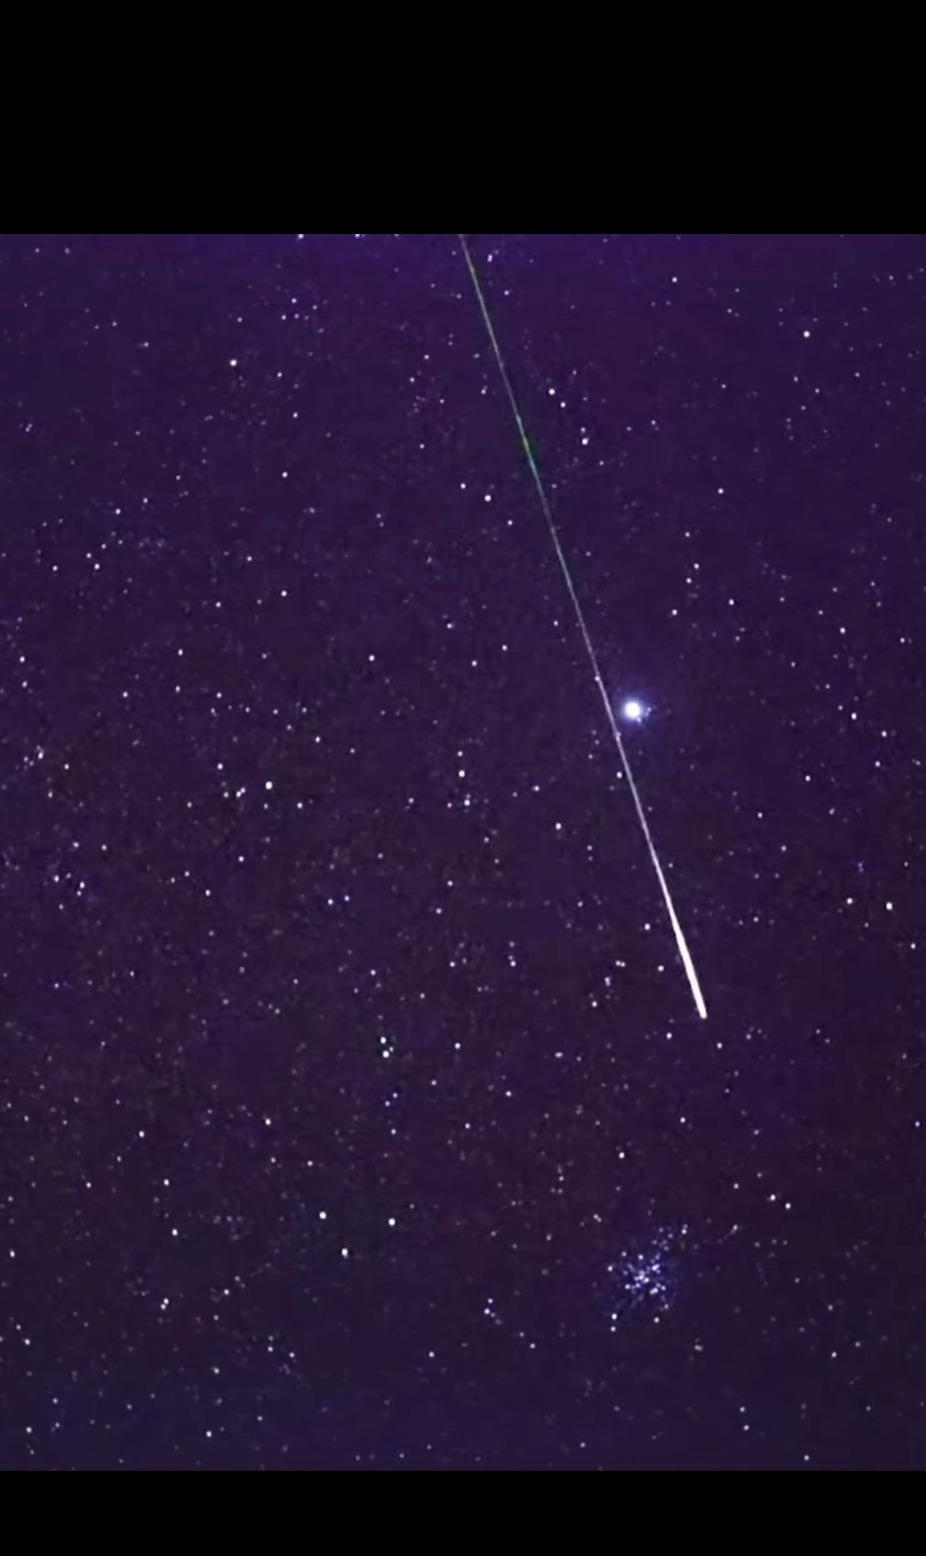meteorite: (551, 572, 720, 1044)
